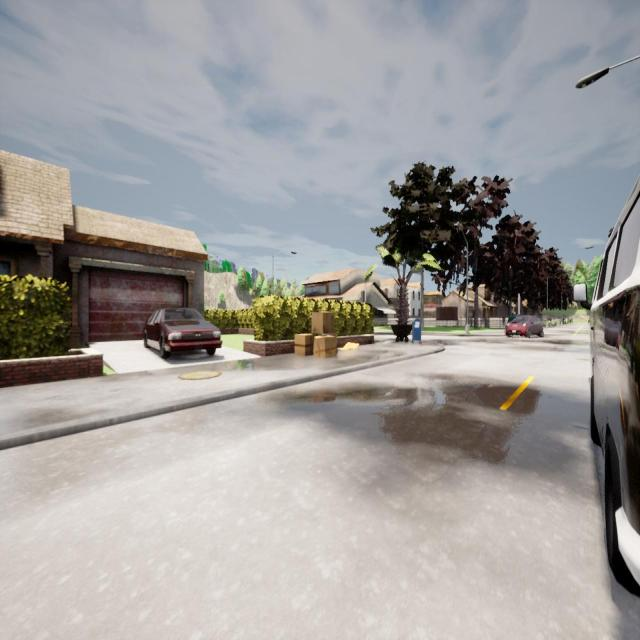Vehicle: (572, 174, 640, 602), (142, 304, 226, 364), (506, 315, 544, 339)
traffic_light: (360, 290, 364, 302), (517, 297, 521, 308)
